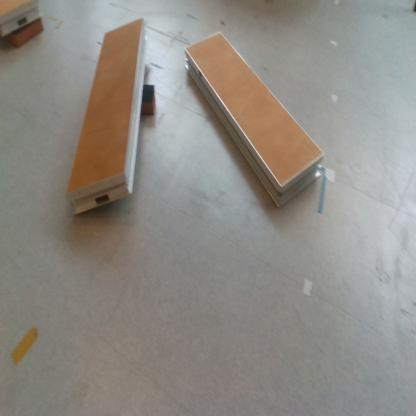Stairs: (184, 29, 326, 212), (65, 17, 151, 215), (1, 1, 43, 41)
